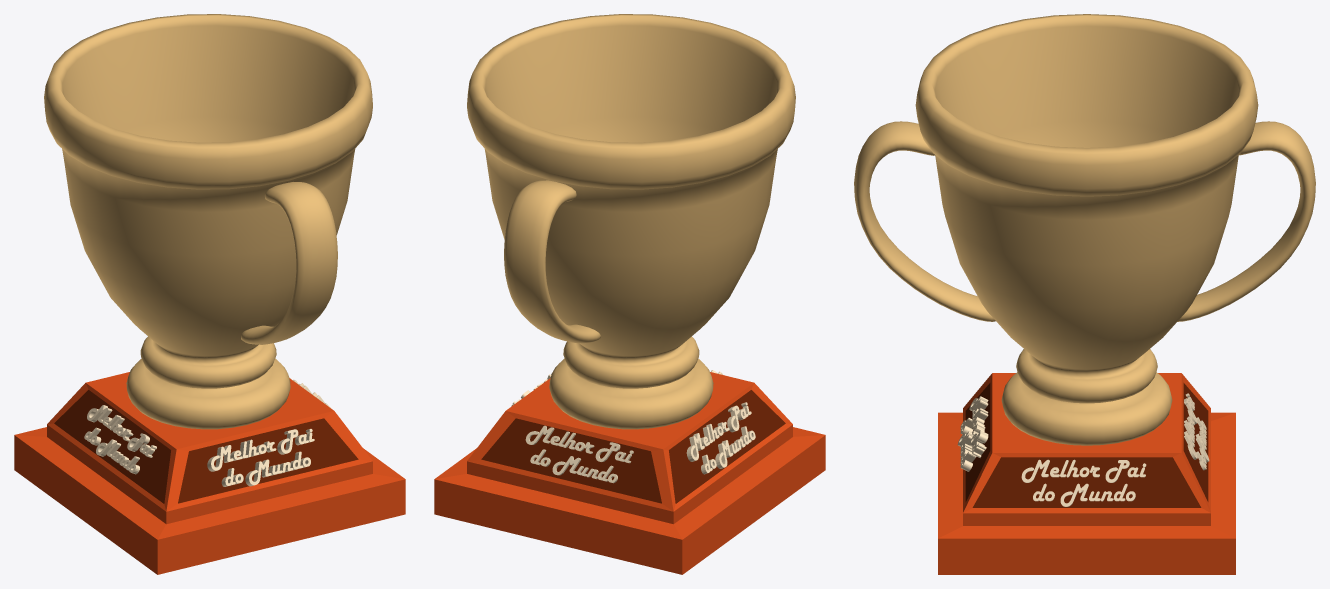
Rendered from father-asset.glb.
3 renders of one model, left to right at view 1: azimuth 30°, elevation 25°; view 2: azimuth 150°, elevation 25°; view 3: azimuth 270°, elevation 25°, orthographic. The views are drawn at different scales.
Visible parts, largest first — view 1: Plane, Cube, Text.004; view 2: Plane, Cube, Text.004; view 3: Plane, Cube, Text.004.
Part boxes in pixels (x1,y1,x2,y2): Plane: (44,14,372,429); Cube: (14,372,405,574); Text.004: (84,377,331,486); Plane: (467,14,795,429); Cube: (434,372,825,574); Text.004: (511,370,755,483); Plane: (854,14,1315,445); Cube: (938,373,1235,574); Text.004: (957,393,1209,506).
Bounding box in the file's own units: 4.11 × 5.69 × 5.54.
